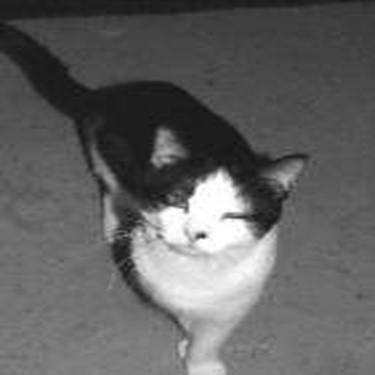cat: (8, 8, 317, 372)
